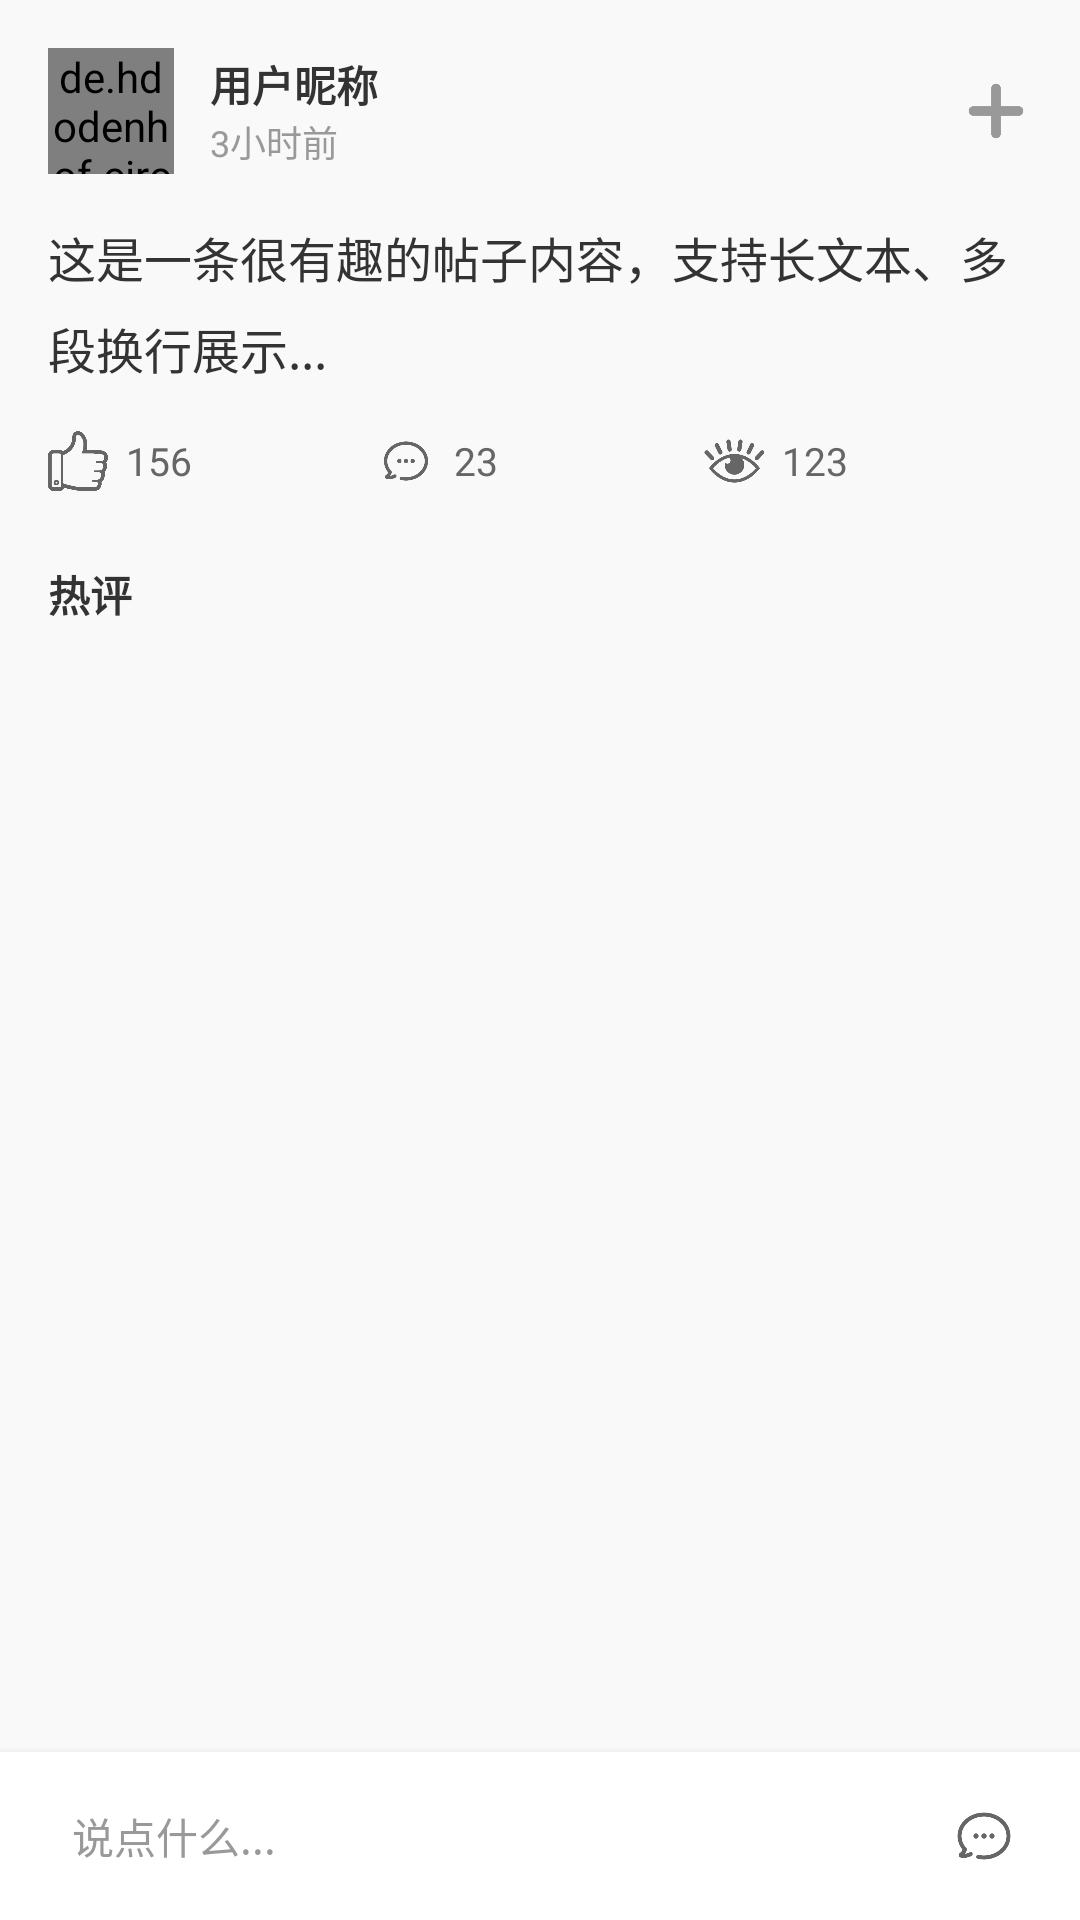

Screen size 1080w x 1920h. Icon name, then its box in pixels as (x1, y1, x2, y2):
关注: (969, 84, 1023, 138)
发送评论: (957, 1812, 1011, 1860)
